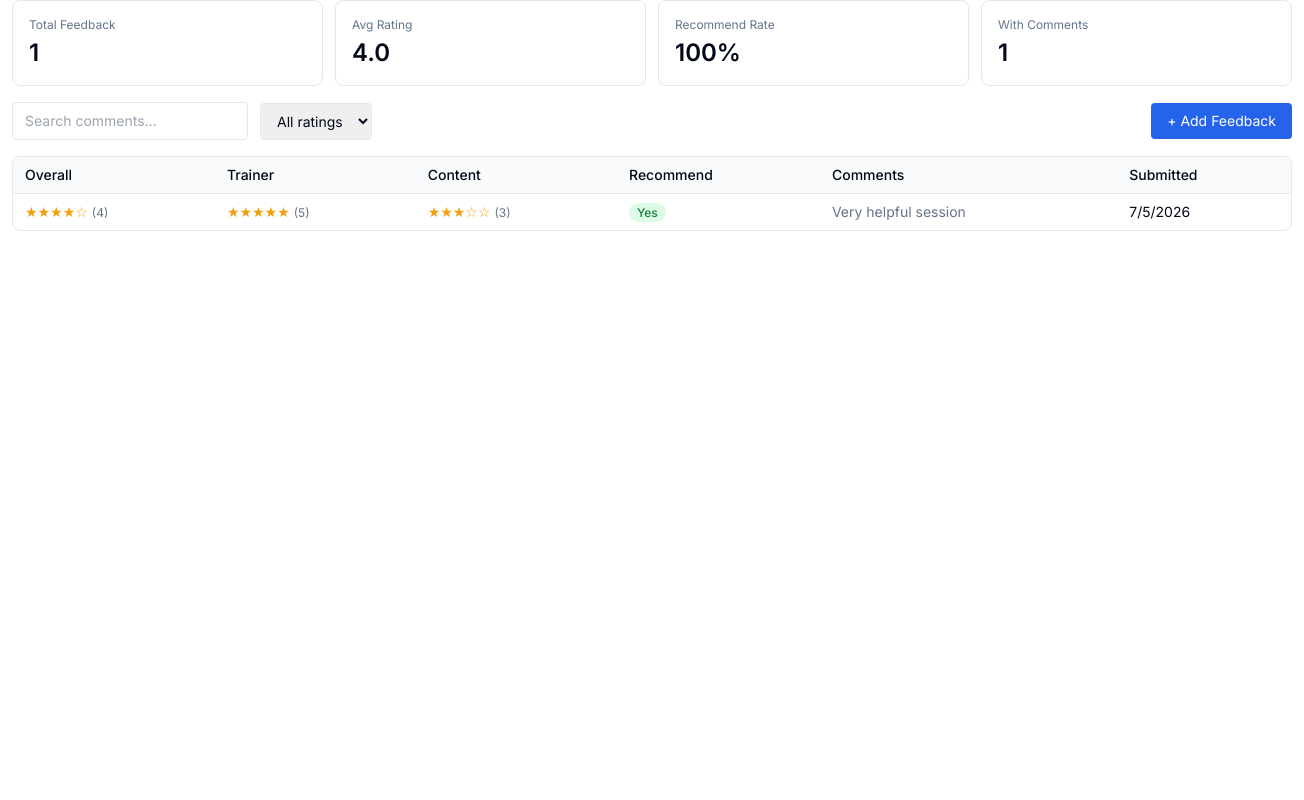
FeedbackCenter — drawer view mode › drawer shows trainer rating
Click the row with test id "feedback-row" at (652, 212), box left=13, top=194, right=1291, bottom=230
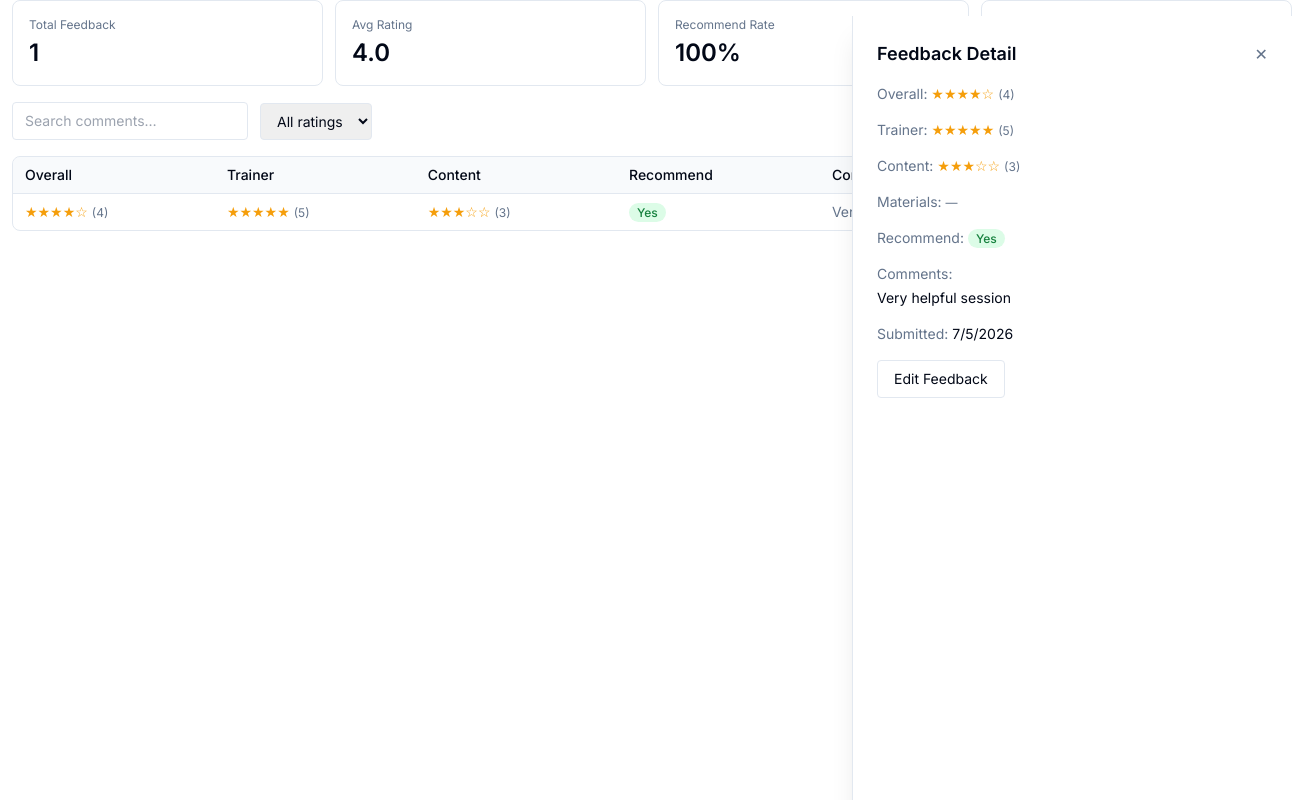
Expected: the element with test id "drawer-trainer-rating" is shown, left=932, top=121, right=1014, bottom=138
